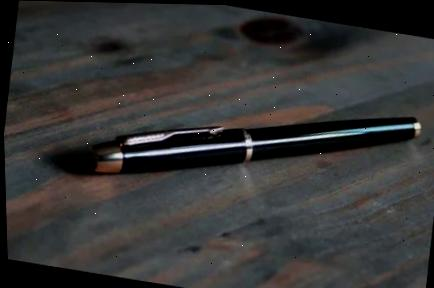pen-pencil: (53, 115, 420, 198)
